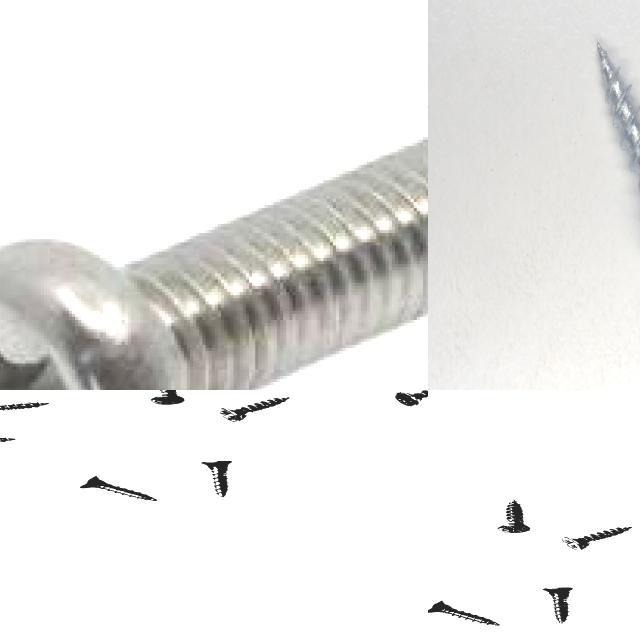Screw: (0, 136, 428, 390), (597, 42, 640, 191), (78, 476, 156, 501), (428, 601, 499, 626), (219, 397, 289, 421), (561, 527, 630, 550), (496, 499, 529, 533), (200, 461, 231, 497), (541, 587, 572, 623), (395, 390, 428, 406), (150, 390, 184, 404), (0, 402, 46, 410)
